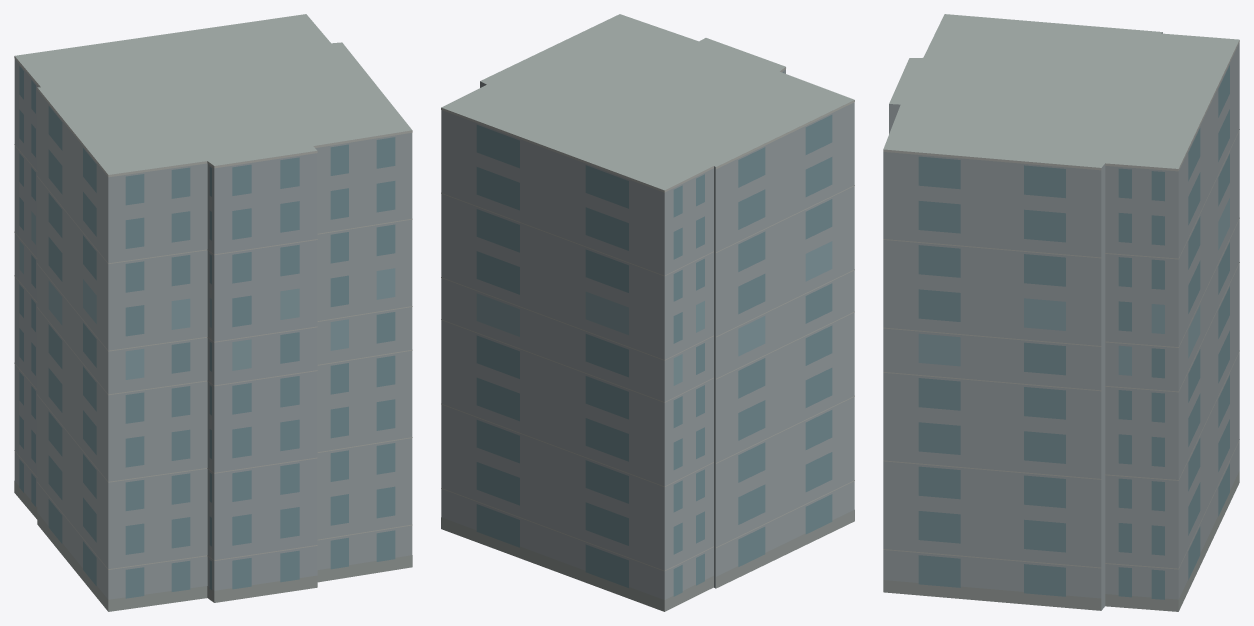
Rendered from survey-upis-32786334.glb.
The picture shows the model from 3 angles, left to right: view 1: azimuth 30°, elevation 25°; view 2: azimuth 150°, elevation 25°; view 3: azimuth 270°, elevation 25°; orthographic projection. The views are drawn at different scales.
Visible parts, largest first — view 1: survey-upis-32786334.tmp; view 2: survey-upis-32786334.tmp; view 3: survey-upis-32786334.tmp.
Part boxes in pixels (left/top/right/bottom): survey-upis-32786334.tmp: left=14, top=14, right=412, bottom=611; survey-upis-32786334.tmp: left=441, top=14, right=854, bottom=611; survey-upis-32786334.tmp: left=883, top=14, right=1239, bottom=611.
Bounding box in the file's own units: 33.8 × 45 × 32.85.
